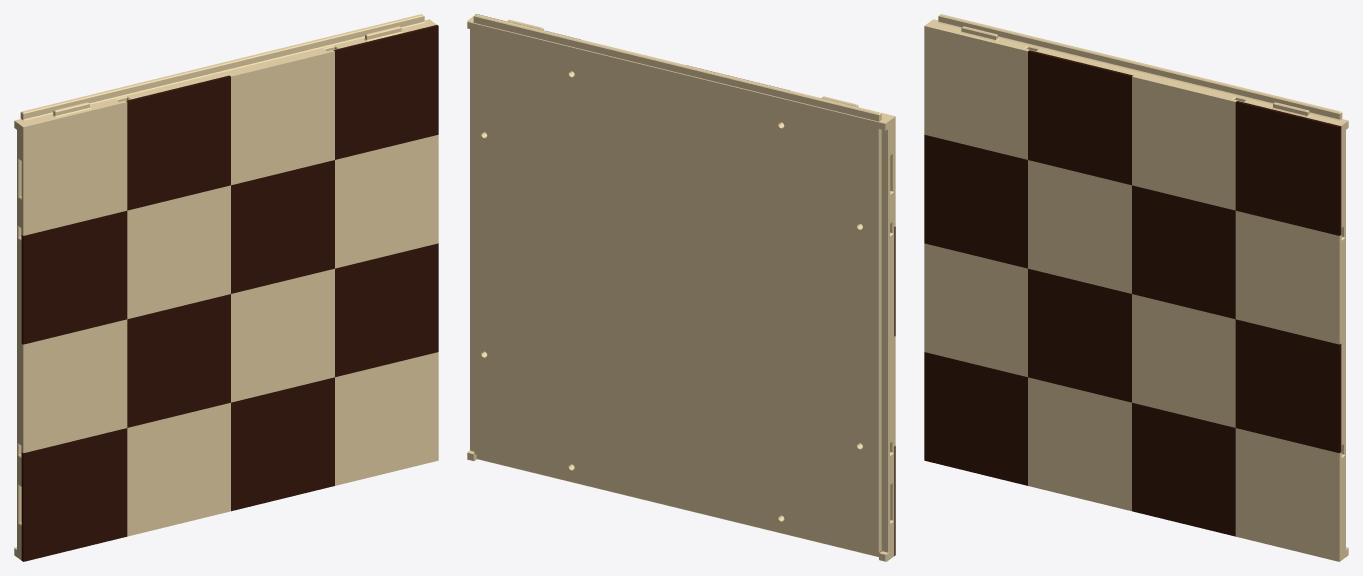
File: .quarter_se.step.glb
The picture shows the model from 3 angles, left to right: view 1: azimuth 30°, elevation 25°; view 2: azimuth 150°, elevation 25°; view 3: azimuth 330°, elevation 25°; orthographic projection.
Parts seen in each view (by area): view 1: o1.1, o1.2.1, o1.2.2, o1.2.4, o1.2.8, o1.2.3, o1.2.6, o1.2.5, o1.2.7; view 2: o1.1; view 3: o1.1, o1.2.8, o1.2.7, o1.2.4, o1.2.1, o1.2.2, o1.2.3, o1.2.5, o1.2.6.
Boxes of the visible parts, <box> form: o1.1: <box>14,14,438,560</box>; o1.2.1: <box>21,428,127,561</box>; o1.2.2: <box>21,211,127,344</box>; o1.2.4: <box>126,75,230,210</box>; o1.2.8: <box>333,25,438,159</box>; o1.2.3: <box>127,294,230,427</box>; o1.2.6: <box>231,160,334,293</box>; o1.2.5: <box>231,377,334,511</box>; o1.2.7: <box>335,243,438,377</box>; o1.1: <box>467,14,895,561</box>; o1.1: <box>924,14,1348,561</box>; o1.2.8: <box>1235,101,1341,235</box>; o1.2.7: <box>1235,319,1341,453</box>; o1.2.4: <box>1028,50,1133,185</box>; o1.2.1: <box>924,352,1027,485</box>; o1.2.2: <box>924,134,1027,268</box>; o1.2.3: <box>1028,268,1131,402</box>; o1.2.5: <box>1132,402,1235,536</box>; o1.2.6: <box>1132,185,1235,319</box>.
Size of the model in its own units: 0.24 by 0.244 by 0.0096.
